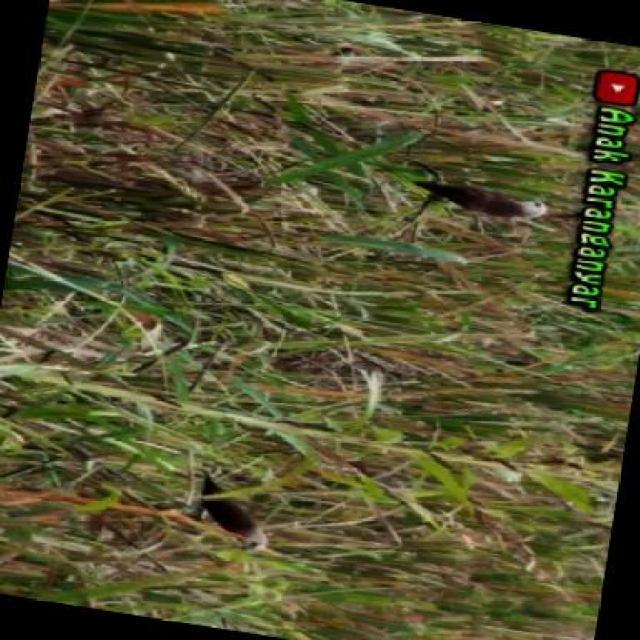Bird: (192, 462, 282, 568), (405, 172, 552, 227)
